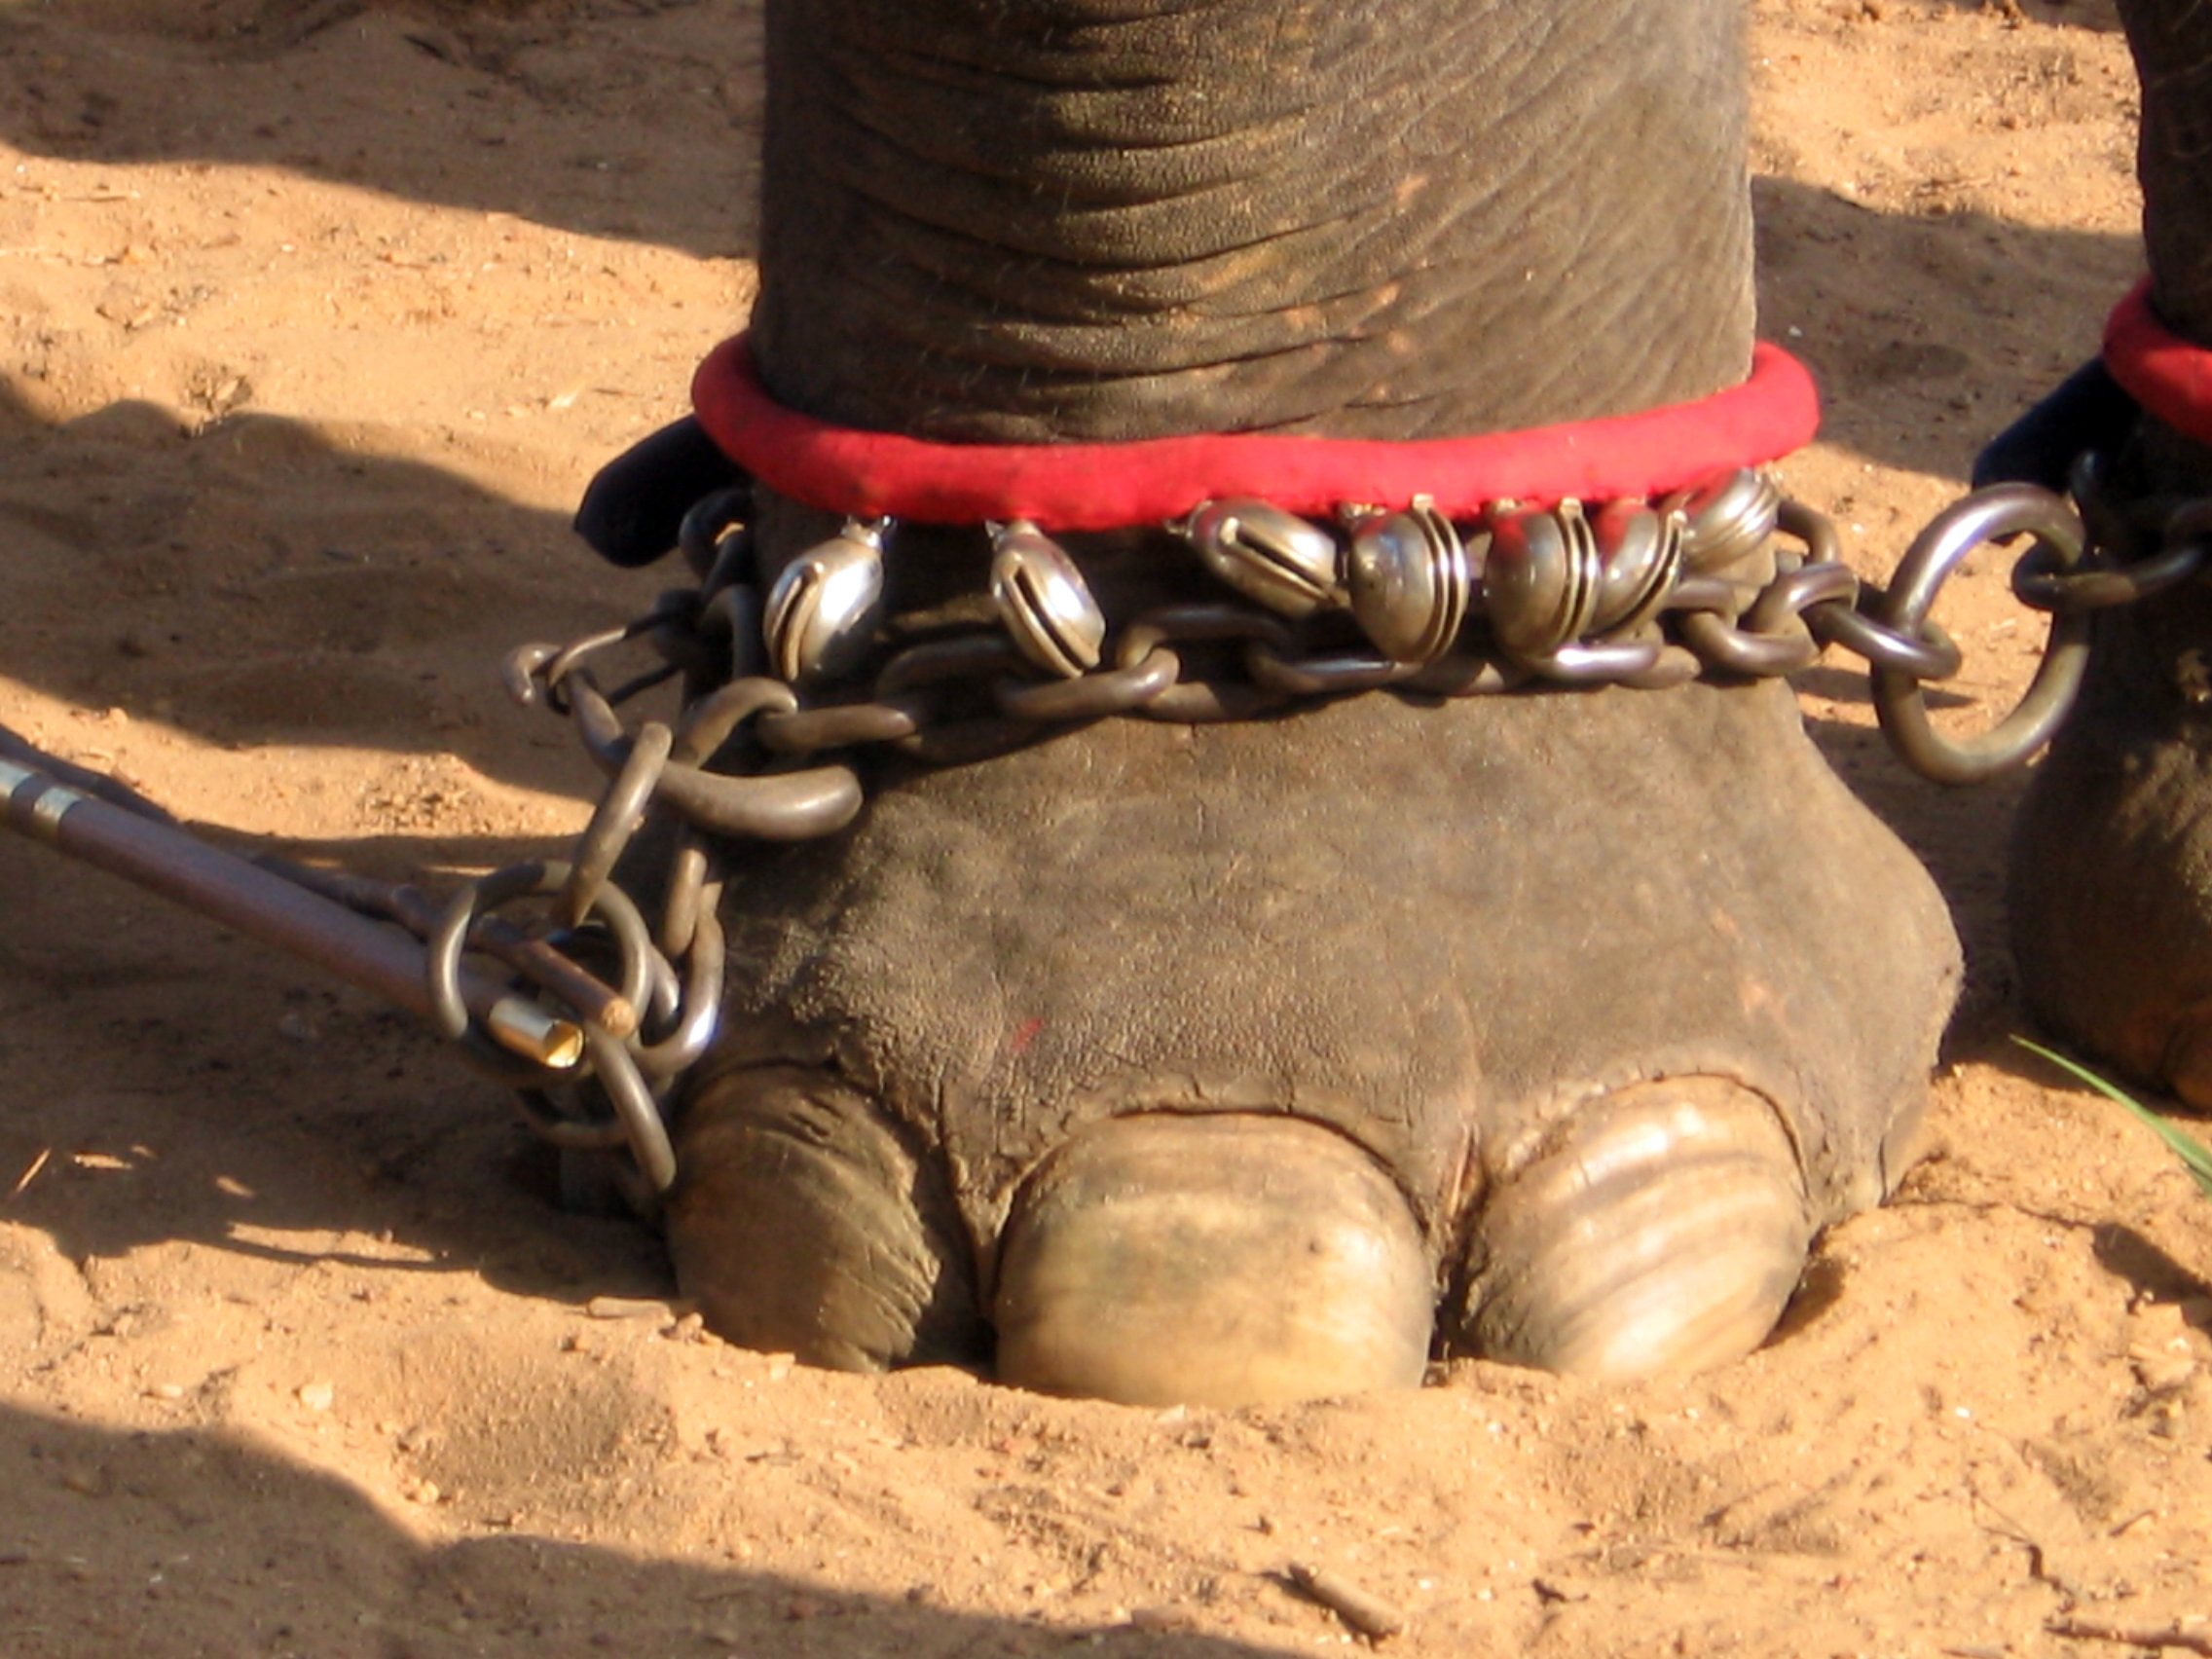elephant: (475, 2, 2003, 1445)
